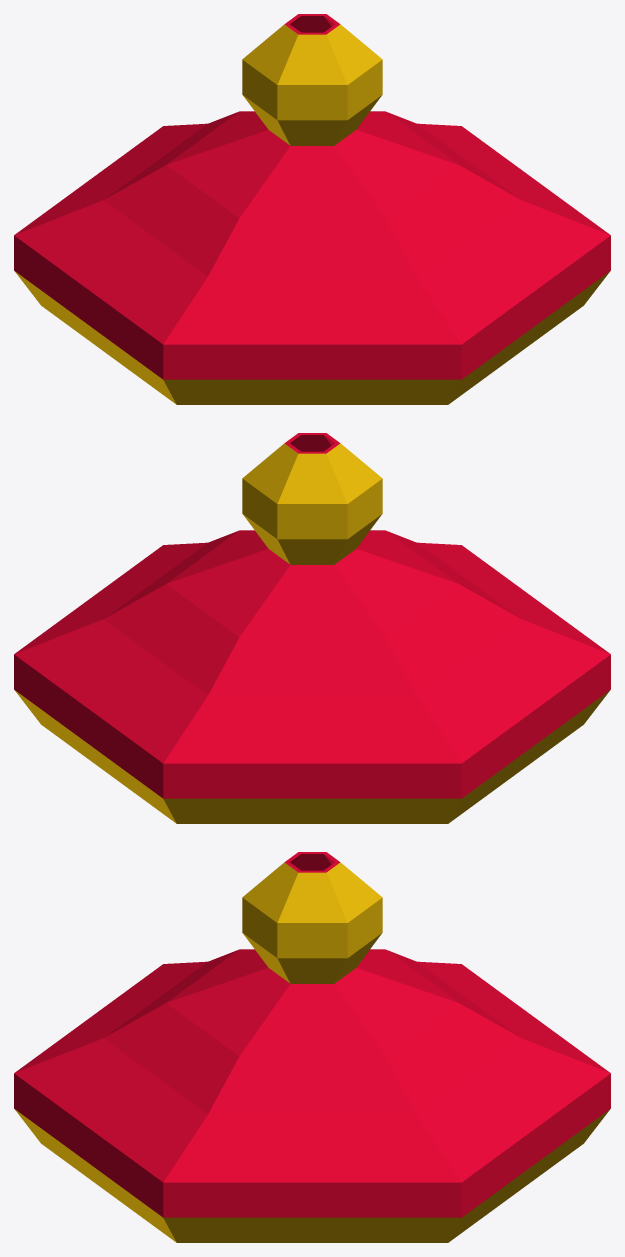
The model's file is GuideUpper.fbx.
The picture shows the model from 3 angles, top to bottom: view 1: azimuth 30°, elevation 25°; view 2: azimuth 150°, elevation 25°; view 3: azimuth 270°, elevation 25°; orthographic projection.
Visible parts, largest first — view 1: Circle.001; view 2: Circle.001; view 3: Circle.001.
Part boxes in pixels (left/top/right/bottom): Circle.001: left=14, top=14, right=610, bottom=404; Circle.001: left=14, top=433, right=610, bottom=823; Circle.001: left=14, top=852, right=610, bottom=1242.
Bounding box in the file's own units: 133 × 88 × 154.
